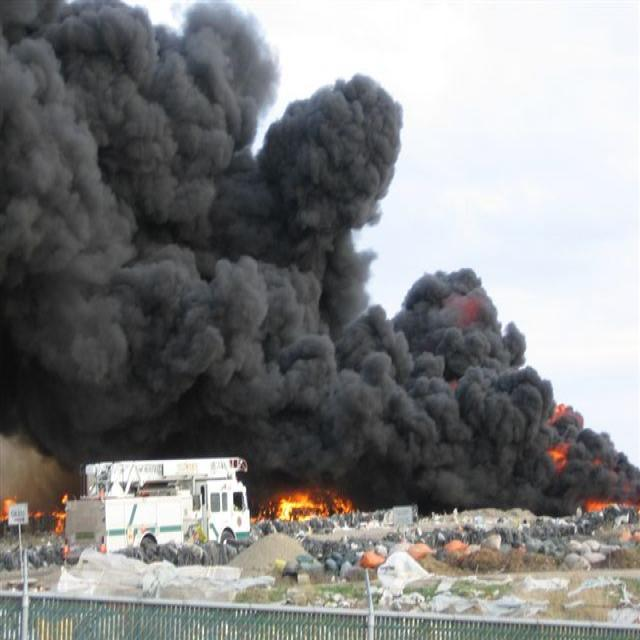Fire: (268, 485, 330, 523)
Smoke: (0, 1, 624, 518)
